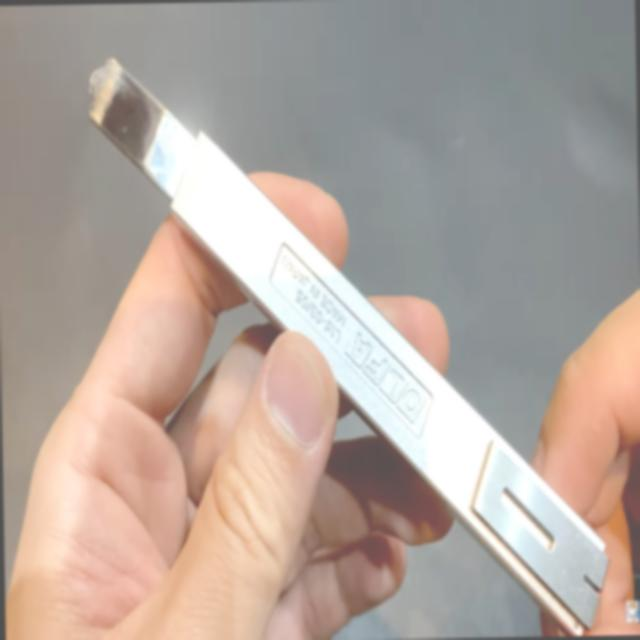cutter: (74, 26, 640, 640)
